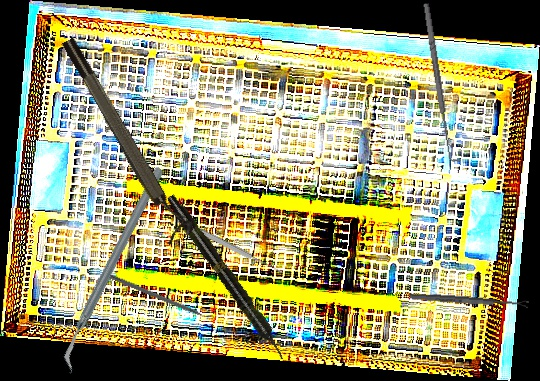Chopper: (2, 164, 225, 375)
Fixation Ring: (57, 30, 197, 246)
Handpiece: (163, 191, 290, 364)
Hook Surgical: (420, 0, 462, 165), (100, 270, 222, 326)
Surgical Spoon: (176, 217, 284, 276), (409, 292, 529, 309)
